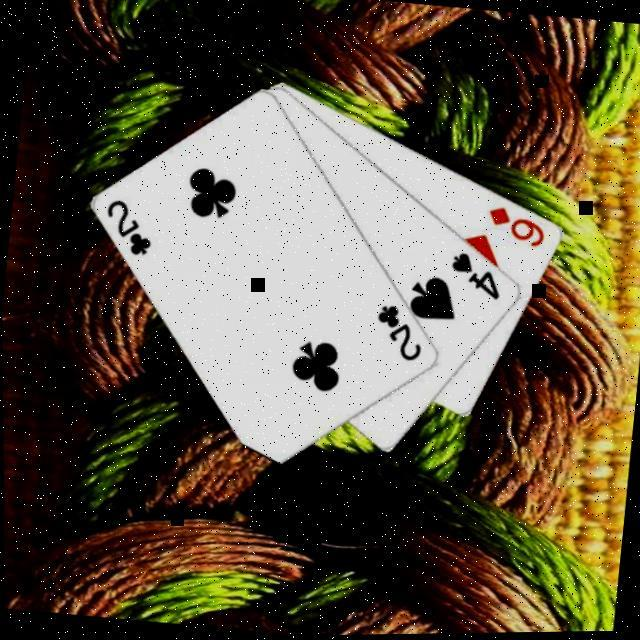2C: (100, 193, 160, 259), (371, 300, 430, 366)
4S: (447, 246, 508, 303)
6D: (485, 202, 552, 250)
